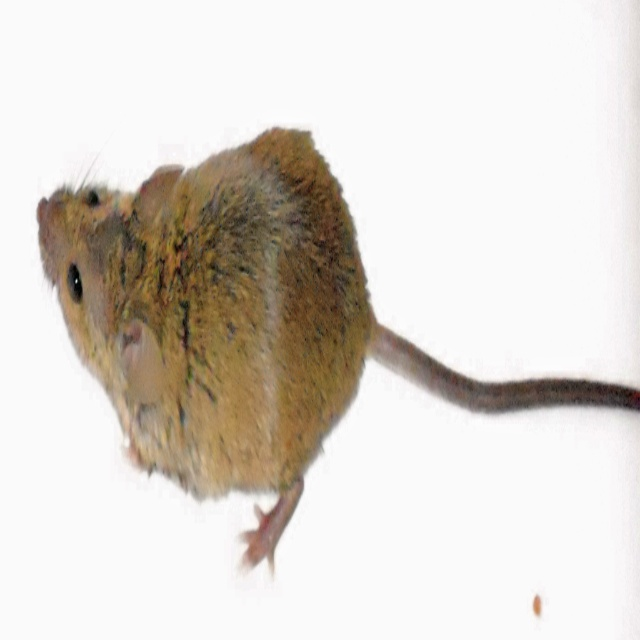Mouse: (76, 122, 593, 578)
